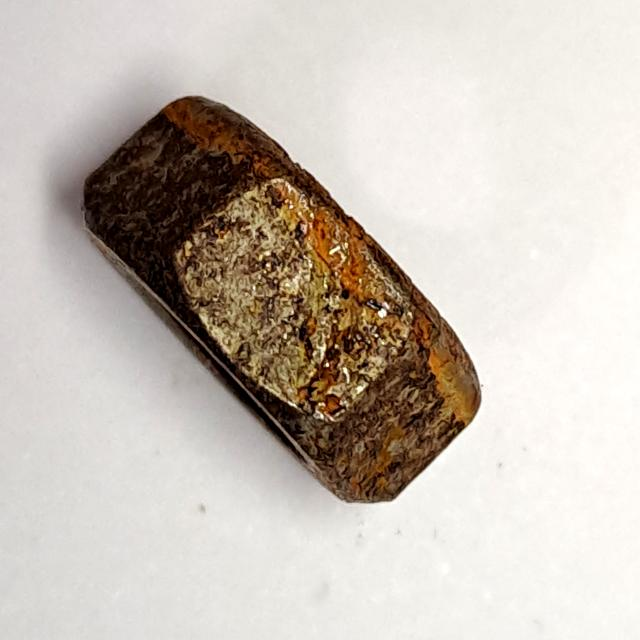Side_Rust: (66, 79, 496, 516)
